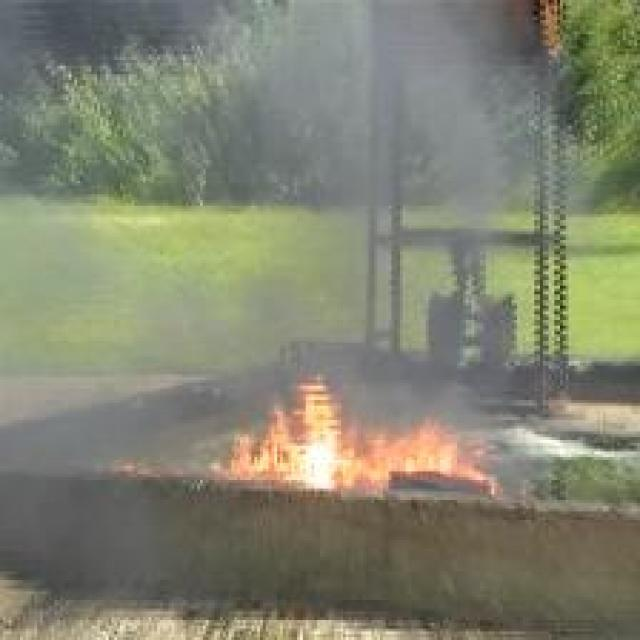Fire: (213, 376, 502, 490)
